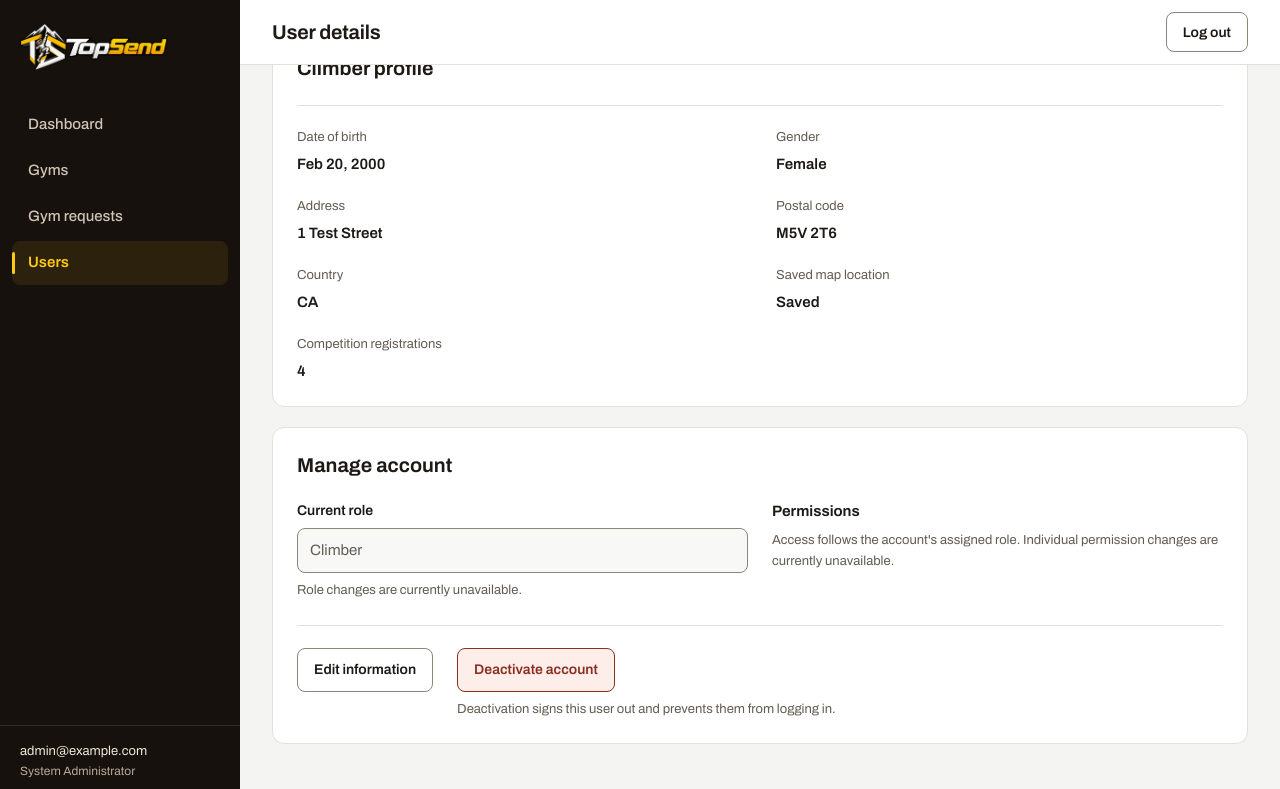
it: US-009 selected profile editing and status controls › prefills only editable fields and keeps role/permission changes unavailable
(page scrolled)
Click the button "Edit information". click: point(365, 670)
box: [297,648,433,692]
(page scrolled)
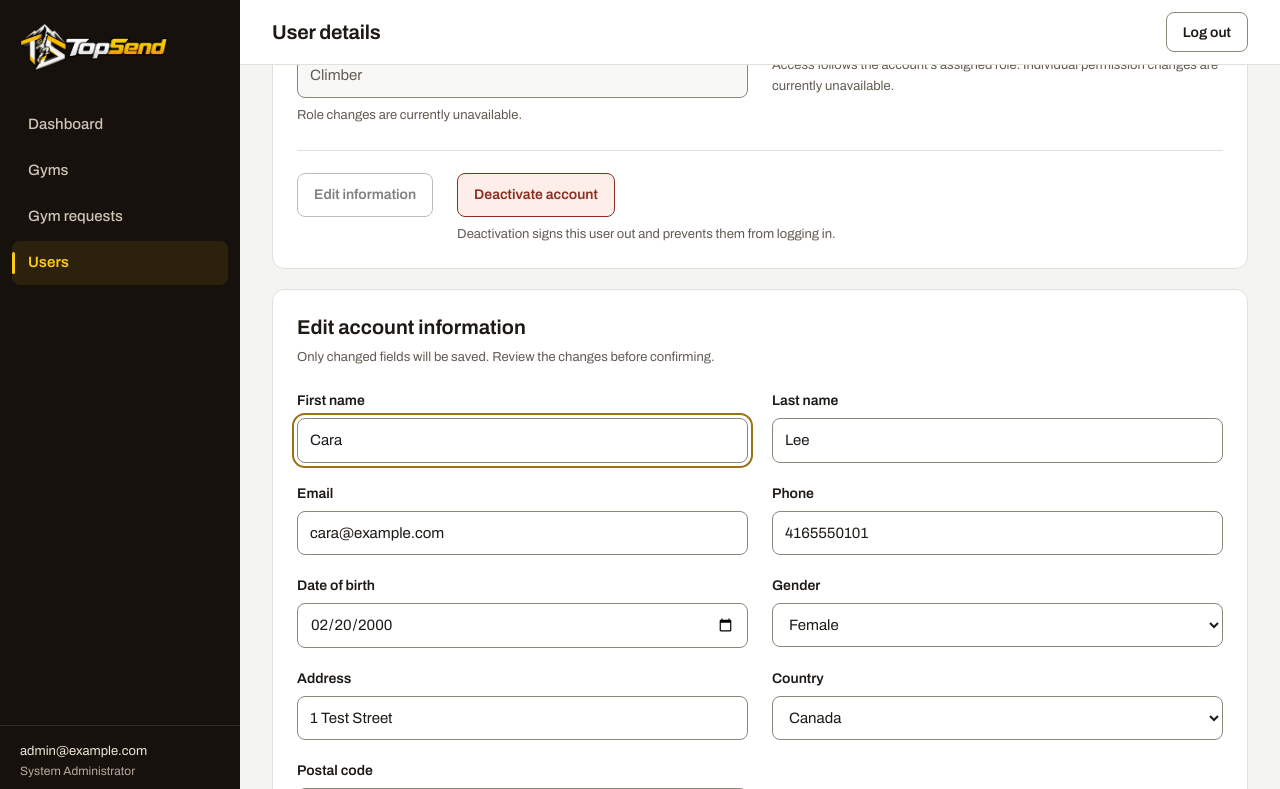
Expected: the field labelled "First name" holds "Cara", [297,418,748,463]
Expected: the dropdown labelled "Country" shows "Canada", [772,696,1223,740]
